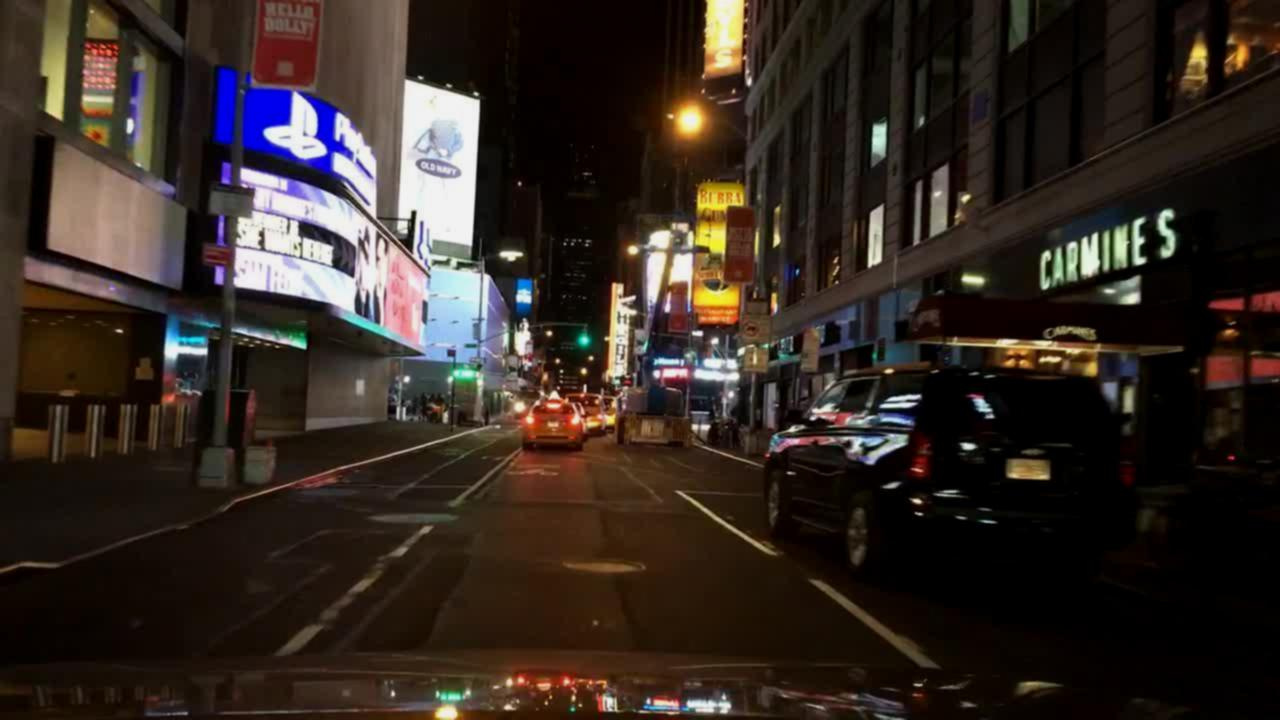chevrolet: (1016, 442, 1048, 462)
